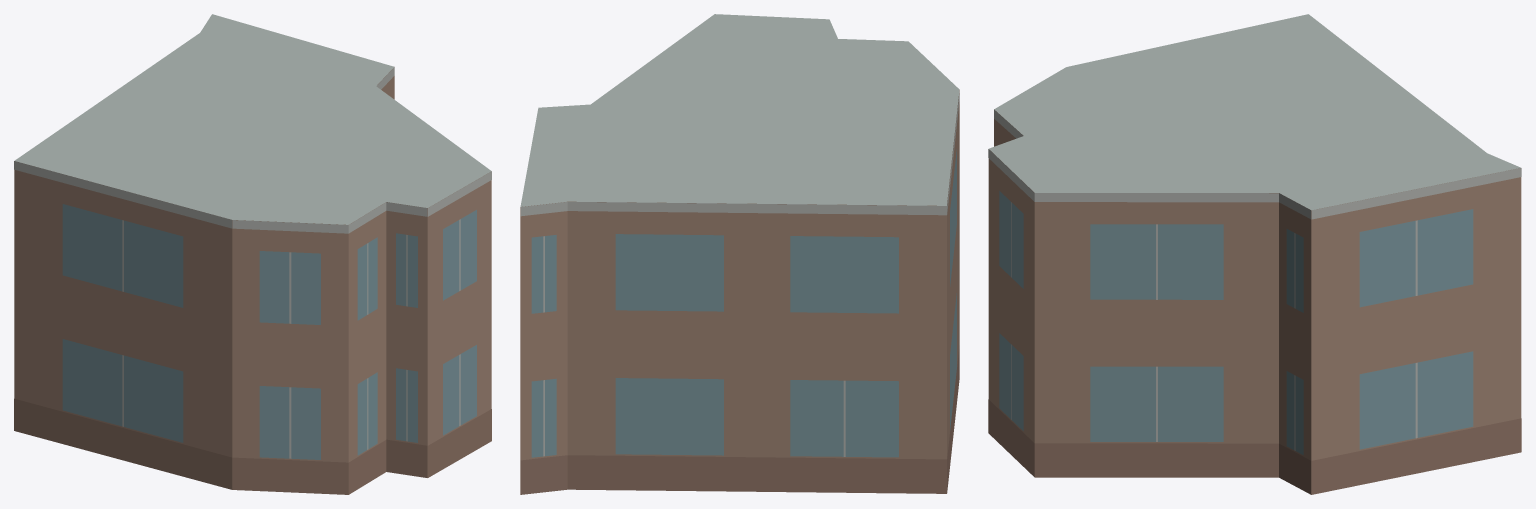
File: survey-upis-32592828.glb
The picture shows the model from 3 angles, left to right: view 1: azimuth 30°, elevation 25°; view 2: azimuth 150°, elevation 25°; view 3: azimuth 270°, elevation 25°; orthographic projection. The views are drawn at different scales.
Parts seen in each view (by area): view 1: survey-upis-32592828.tmp; view 2: survey-upis-32592828.tmp; view 3: survey-upis-32592828.tmp.
Part boxes in pixels (x1,y1,x2,y2): survey-upis-32592828.tmp: (14,14,491,494); survey-upis-32592828.tmp: (520,14,959,494); survey-upis-32592828.tmp: (988,14,1521,494).
Bounding box in the file's own units: 11.11 × 7.5 × 12.74.
